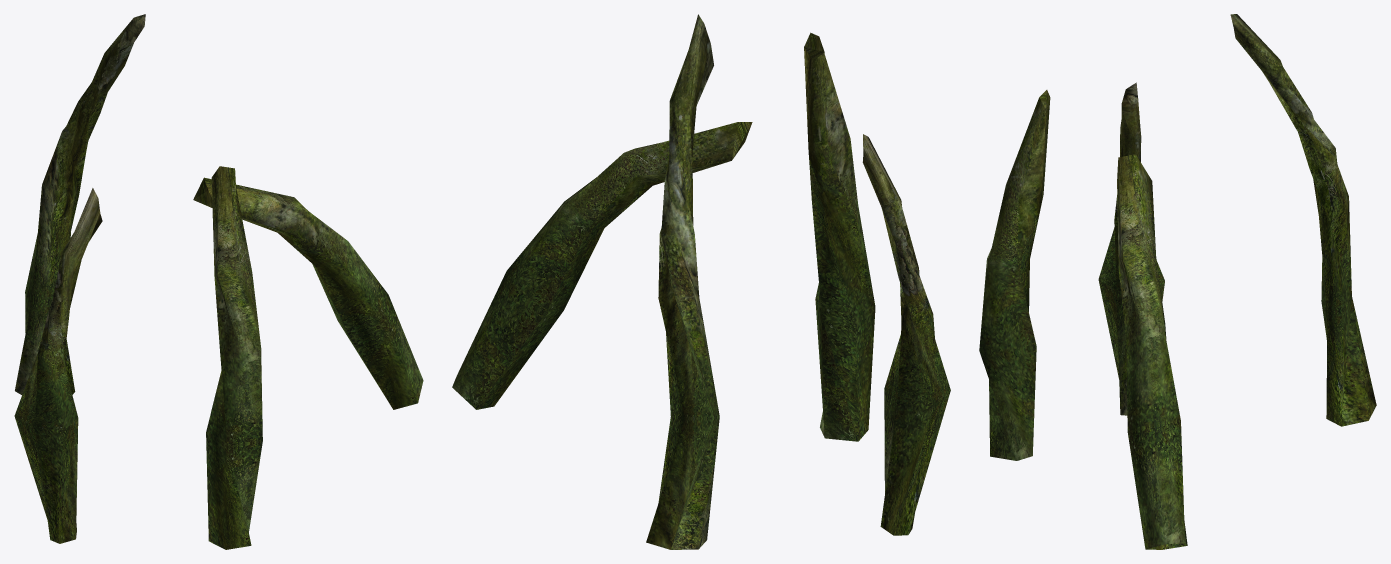
Rendered from prayer_tree_roof_01.fbx.
3 views of the same model, side by side, from view 1: azimuth 30°, elevation 25°; view 2: azimuth 150°, elevation 25°; view 3: azimuth 270°, elevation 25° (orthographic). The views are drawn at different scales.
Visible parts, largest first — view 1: prayer_tree_roof_01; view 2: prayer_tree_roof_01; view 3: prayer_tree_roof_01.
Boxes of the visible parts, box(x1,y1,x2,y2) form: prayer_tree_roof_01: box(14, 14, 423, 549); prayer_tree_roof_01: box(452, 14, 950, 549); prayer_tree_roof_01: box(979, 14, 1376, 549).
Size of the model in its own units: 23.09 by 24.4 by 18.88.
